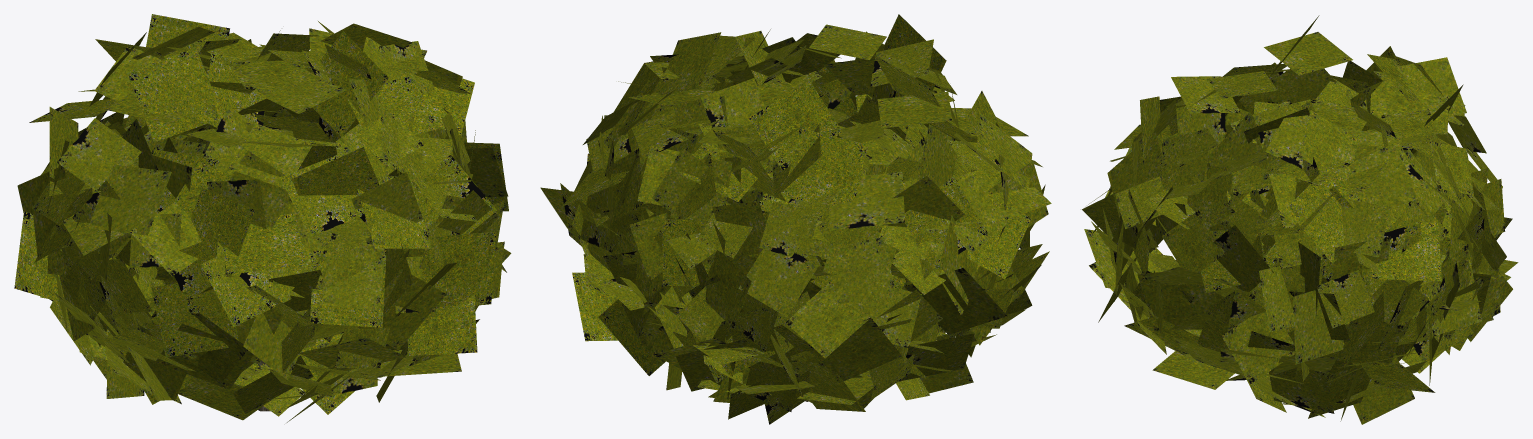
Rendered from bush_01.fbx.
3 renders of one model, left to right at view 1: azimuth 30°, elevation 25°; view 2: azimuth 150°, elevation 25°; view 3: azimuth 270°, elevation 25°, orthographic. The views are drawn at different scales.
Parts seen in each view (by area): view 1: bush_01_LOD0; view 2: bush_01_LOD0; view 3: bush_01_LOD0.
Part boxes in pixels (x1,y1,x2,y2): bush_01_LOD0: [14, 14, 511, 422]; bush_01_LOD0: [540, 14, 1051, 424]; bush_01_LOD0: [1082, 15, 1518, 424].
Size of what is drawn, in the model's own units: 2.47 by 1.93 by 2.29.
